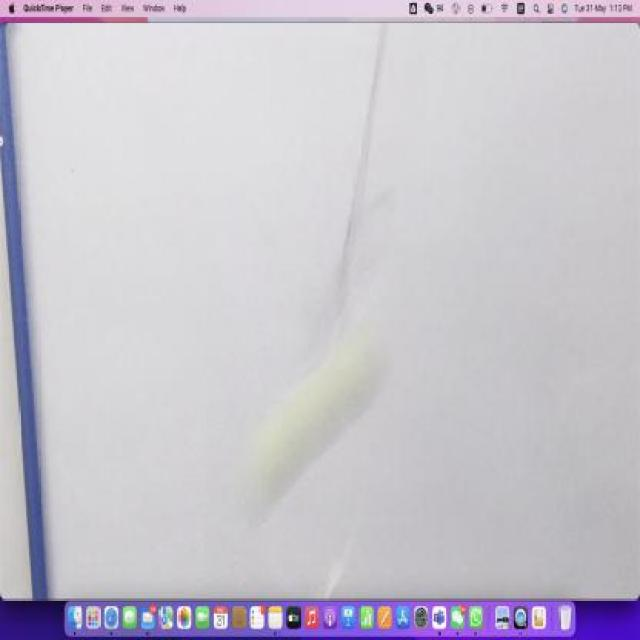baseball: (252, 332, 386, 500)
